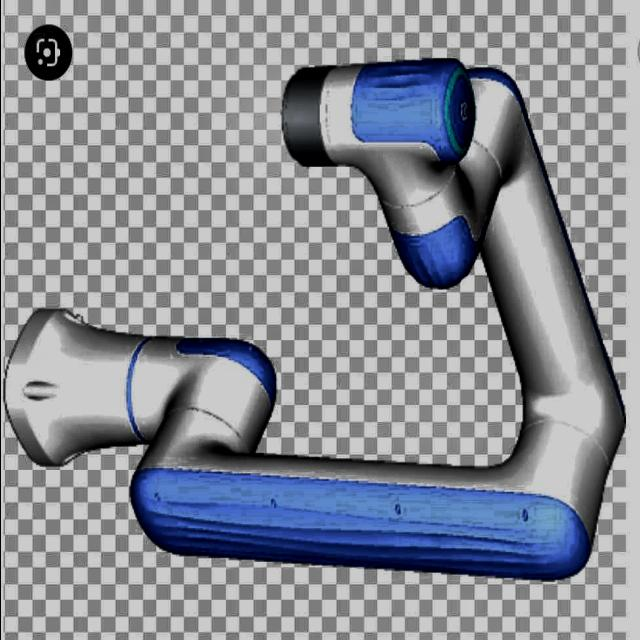robot: (3, 57, 626, 581)
